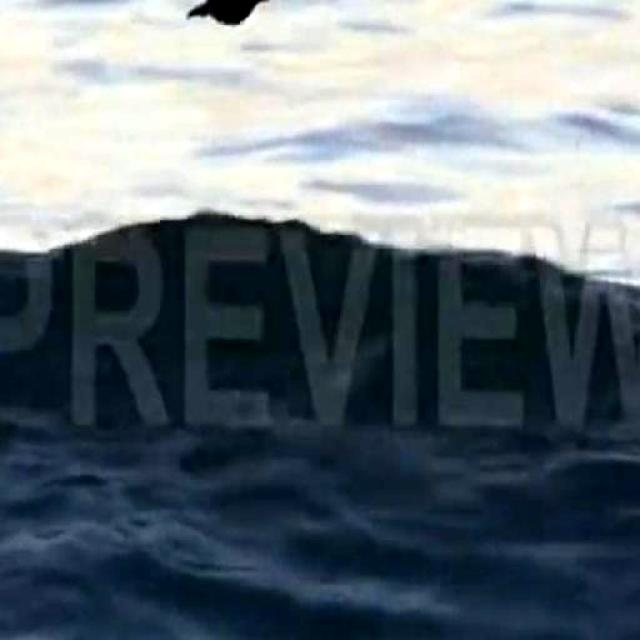airplane: (150, 0, 321, 45)
